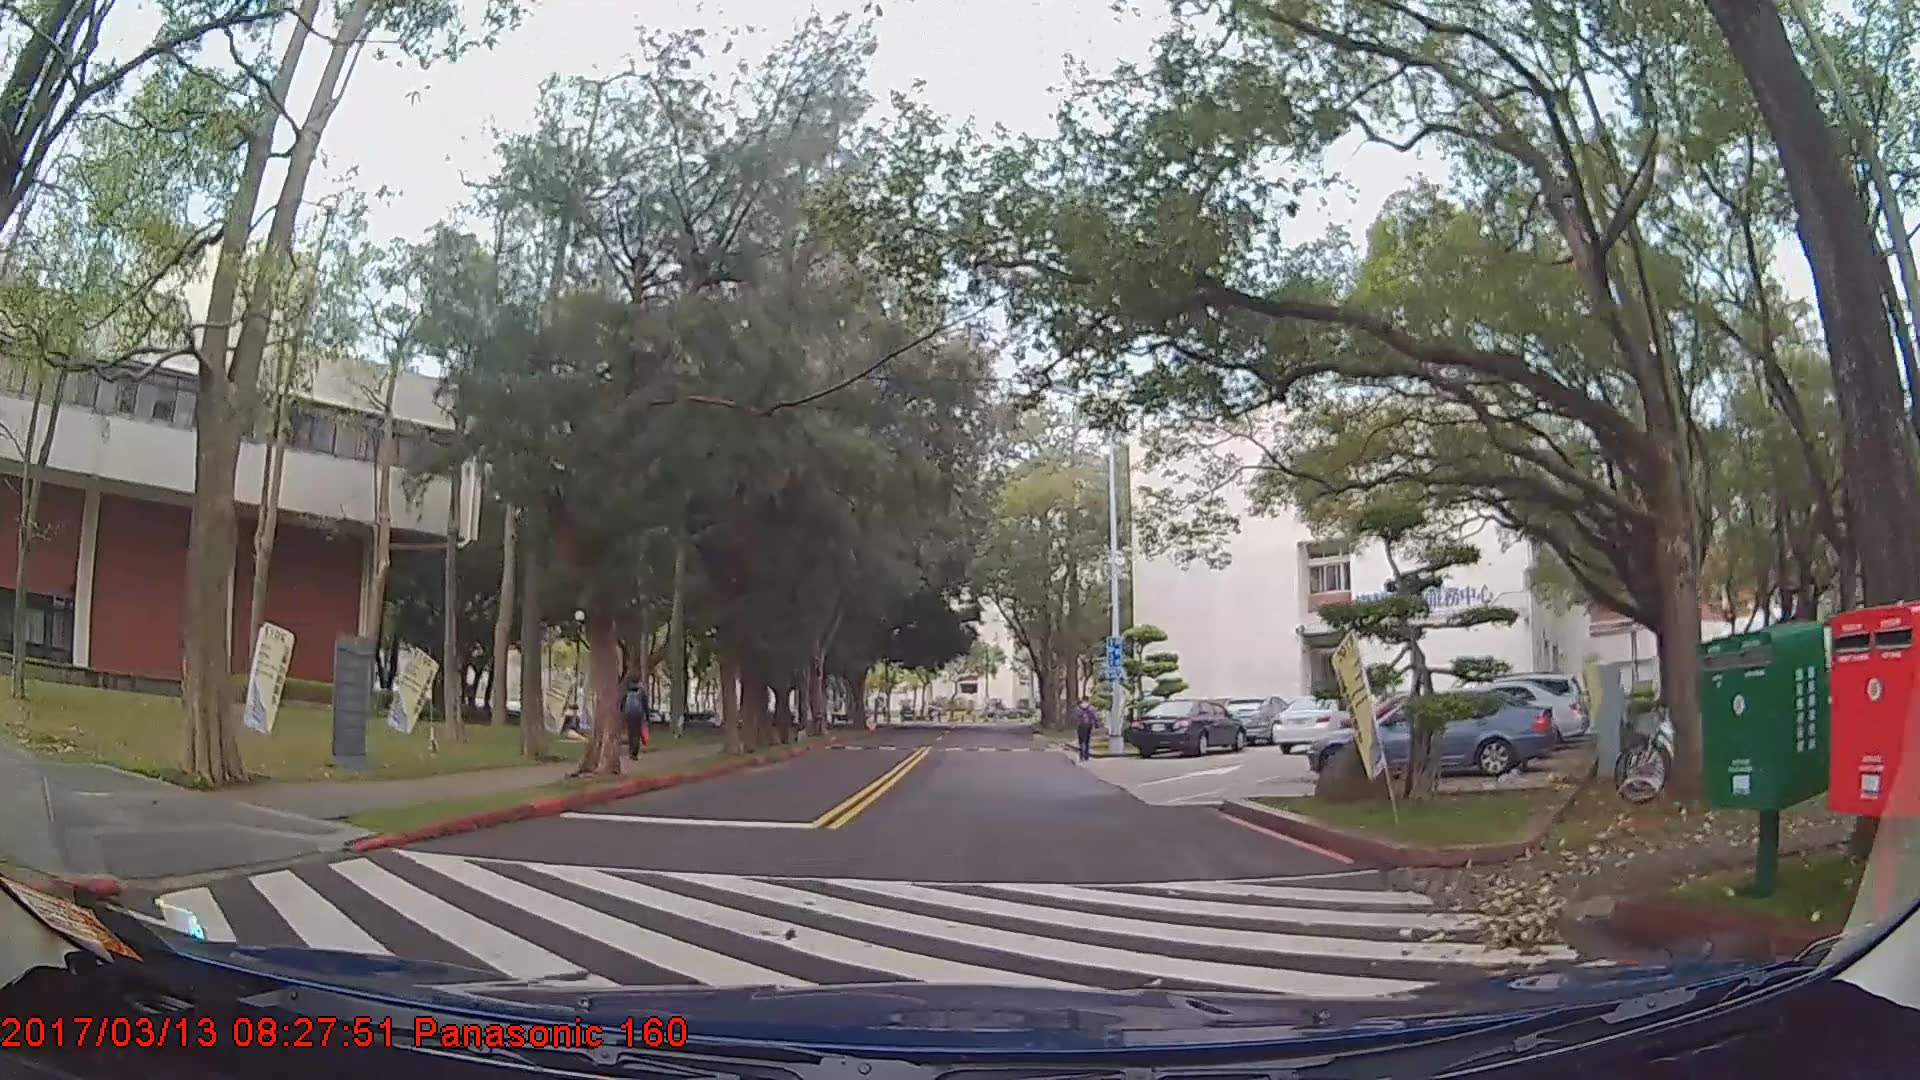pedestrian: (617, 672, 651, 758), (1070, 694, 1100, 761)
vehicle: (1309, 686, 1558, 782), (1420, 679, 1584, 751), (1126, 697, 1246, 757), (1272, 692, 1363, 754), (1222, 695, 1304, 746)
